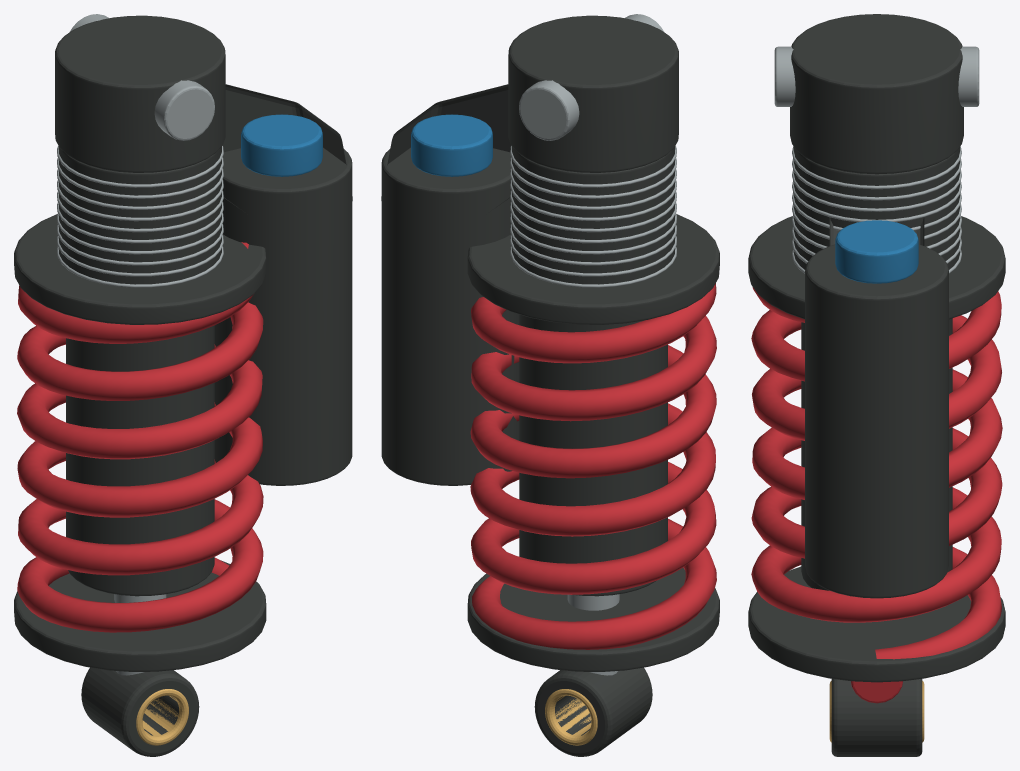
Rendered from rockshox-vivid-coil-ultimate-d1--64dc8f33.glb.
3 renders of one model, left to right at view 1: azimuth 30°, elevation 25°; view 2: azimuth 150°, elevation 25°; view 3: azimuth 270°, elevation 25°, orthographic.
Visible parts, largest first — view 1: rockshox-vivid-coil-ultimate-d1--64dc8f33__link, rockshox-vivid-coil-ultimate-d1--64dc8f33__rebound, rockshox-vivid-coil-ultimate-d1--64dc8f33__bolts, rockshox-vivid-coil-ultimate-d1--64dc8f33__adjuster, rockshox-vivid-coil-ultimate-d1--64dc8f33__stanchions; view 2: rockshox-vivid-coil-ultimate-d1--64dc8f33__link, rockshox-vivid-coil-ultimate-d1--64dc8f33__rebound, rockshox-vivid-coil-ultimate-d1--64dc8f33__bolts, rockshox-vivid-coil-ultimate-d1--64dc8f33__adjuster, rockshox-vivid-coil-ultimate-d1--64dc8f33__stanchions; view 3: rockshox-vivid-coil-ultimate-d1--64dc8f33__link, rockshox-vivid-coil-ultimate-d1--64dc8f33__rebound, rockshox-vivid-coil-ultimate-d1--64dc8f33__bolts, rockshox-vivid-coil-ultimate-d1--64dc8f33__adjuster.
Part boxes in pixels (x1,y1,x2,y2): rockshox-vivid-coil-ultimate-d1--64dc8f33__link: (14, 15, 352, 756); rockshox-vivid-coil-ultimate-d1--64dc8f33__rebound: (17, 242, 263, 632); rockshox-vivid-coil-ultimate-d1--64dc8f33__bolts: (57, 14, 223, 675); rockshox-vivid-coil-ultimate-d1--64dc8f33__adjuster: (241, 114, 322, 176); rockshox-vivid-coil-ultimate-d1--64dc8f33__stanchions: (136, 689, 188, 745); rockshox-vivid-coil-ultimate-d1--64dc8f33__link: (381, 15, 719, 756); rockshox-vivid-coil-ultimate-d1--64dc8f33__rebound: (470, 283, 716, 649); rockshox-vivid-coil-ultimate-d1--64dc8f33__bolts: (510, 14, 676, 675); rockshox-vivid-coil-ultimate-d1--64dc8f33__adjuster: (411, 114, 492, 176); rockshox-vivid-coil-ultimate-d1--64dc8f33__stanchions: (545, 689, 597, 745); rockshox-vivid-coil-ultimate-d1--64dc8f33__link: (748, 14, 1005, 756); rockshox-vivid-coil-ultimate-d1--64dc8f33__rebound: (751, 287, 1002, 703); rockshox-vivid-coil-ultimate-d1--64dc8f33__bolts: (774, 46, 979, 273); rockshox-vivid-coil-ultimate-d1--64dc8f33__adjuster: (835, 220, 918, 283).
Bounding box in the file's own units: 0.097 × 0.205 × 0.068.
